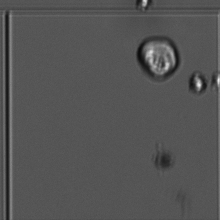Dead Cell: (151, 146, 180, 175)
Living Cell: (135, 33, 182, 80), (187, 68, 213, 94), (132, 1, 153, 12)
